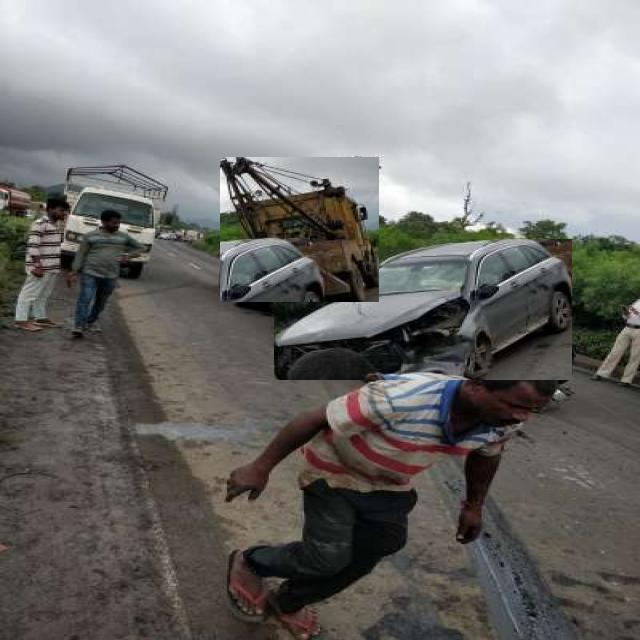accident: (274, 240, 572, 380)
truck: (220, 157, 378, 302), (62, 165, 169, 277)
